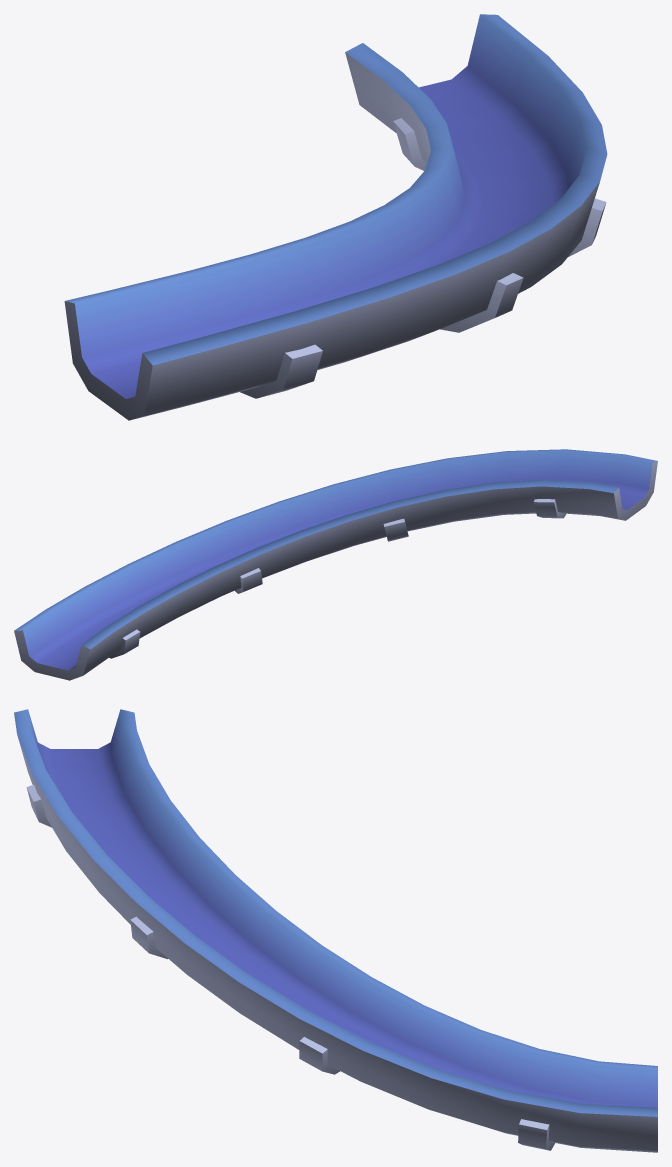
The model's file is coaster-flume-corner-large-ramp.glb.
3 renders of one model, top to bottom at view 1: azimuth 30°, elevation 25°; view 2: azimuth 150°, elevation 25°; view 3: azimuth 270°, elevation 25°, orthographic. The views are drawn at different scales.
Visible parts, largest first — view 1: coaster-flume-corner-large-ramp; view 2: coaster-flume-corner-large-ramp; view 3: coaster-flume-corner-large-ramp.
Boxes of the visible parts, x1,y1,x2,y2 form: coaster-flume-corner-large-ramp: (64, 14, 607, 420); coaster-flume-corner-large-ramp: (14, 449, 657, 680); coaster-flume-corner-large-ramp: (14, 709, 657, 1152).
Size of the model in its own units: 4.41 by 1.42 by 4.41.
Materials: 1 (1 with a texture image).
